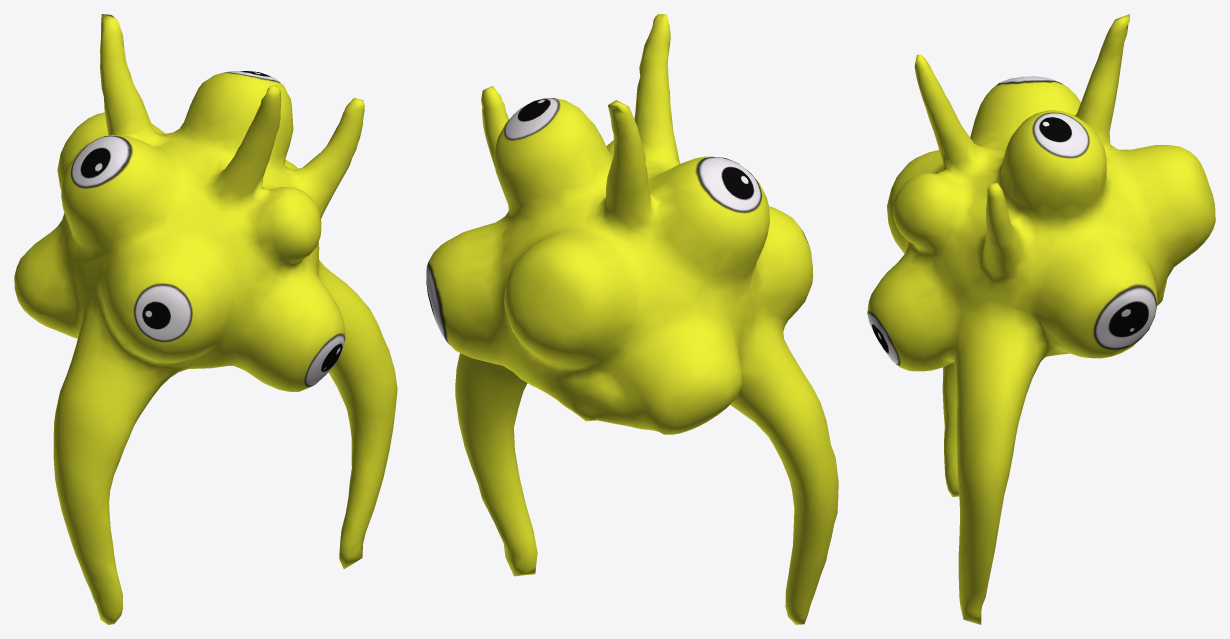
3 views of the same model, side by side, from view 1: azimuth 30°, elevation 25°; view 2: azimuth 150°, elevation 25°; view 3: azimuth 270°, elevation 25° (orthographic). The views are drawn at different scales.
Parts seen in each view (by area): view 1: メタボール.028; view 2: メタボール.028; view 3: メタボール.028.
Part boxes in pixels (x1,y1,x2,y2): メタボール.028: [14, 14, 397, 624]; メタボール.028: [426, 14, 838, 624]; メタボール.028: [867, 14, 1215, 624].
Size of the model in its own units: 3.39 by 5.08 by 3.03.
1 material, 1 textured.
